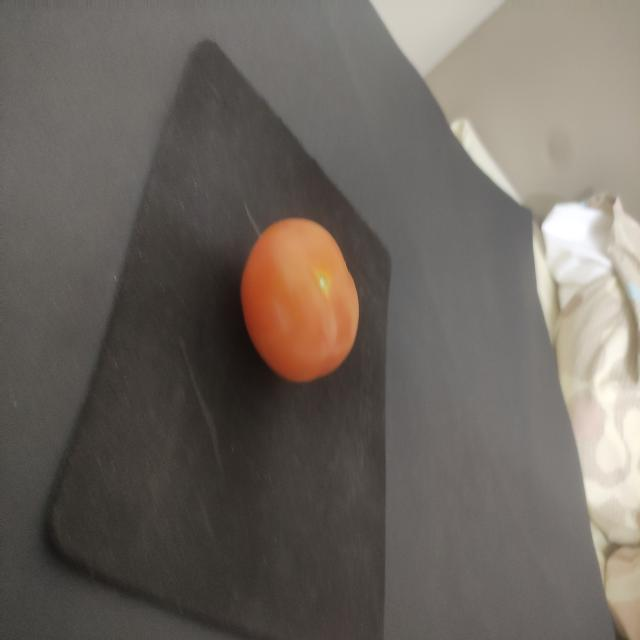sari: (241, 188, 369, 394)
